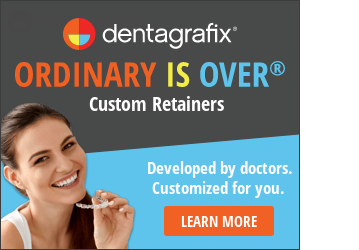fake_button: (159, 203, 279, 241)
